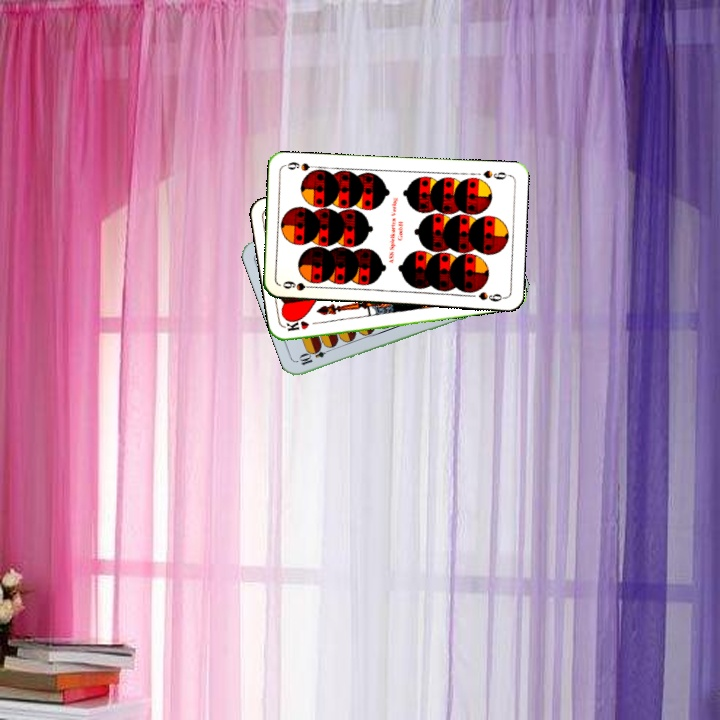E10: (295, 343, 335, 368)
HK: (283, 317, 324, 334)
S9: (279, 277, 318, 293), (479, 166, 512, 182)
